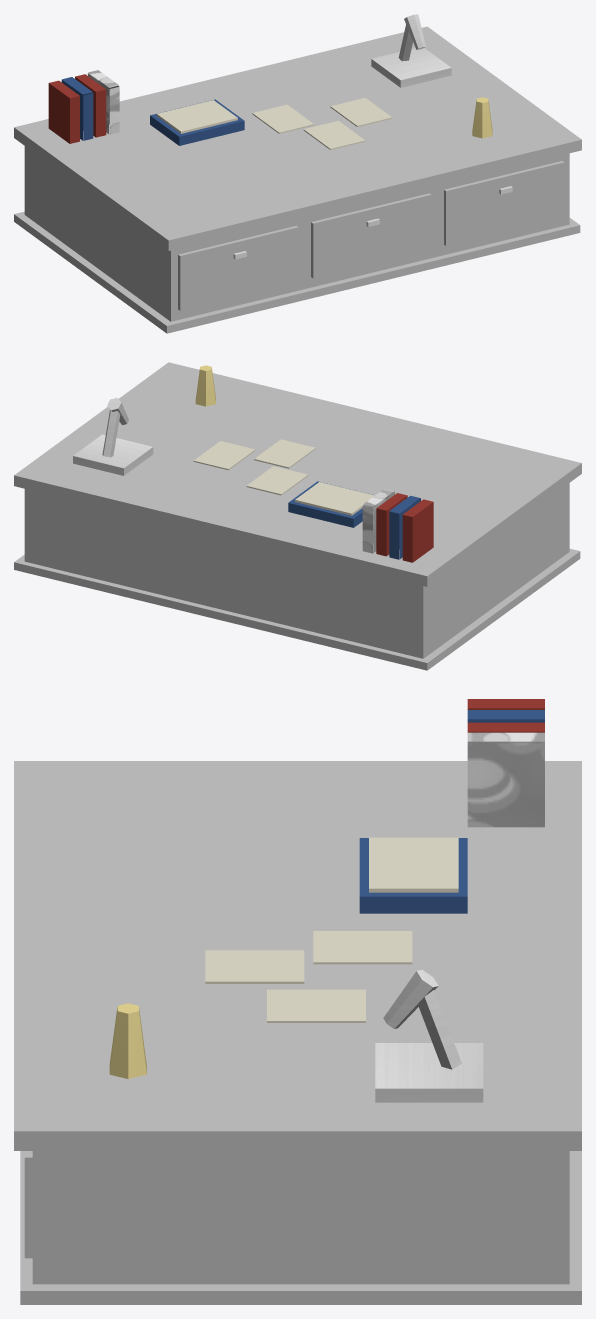
Rendered from bench_research.obj.
The picture shows the model from 3 angles, top to bottom: view 1: azimuth 30°, elevation 25°; view 2: azimuth 150°, elevation 25°; view 3: azimuth 270°, elevation 25°; orthographic projection. The views are drawn at different scales.
Visible parts, largest first — view 1: bench_research; view 2: bench_research; view 3: bench_research.
Boxes of the visible parts, bbox=[...] form: bench_research: bbox=[14, 14, 581, 333]; bench_research: bbox=[14, 362, 581, 670]; bench_research: bbox=[14, 699, 581, 1304].
Size of the model in its own units: 2.84 by 1.01 by 1.84.
